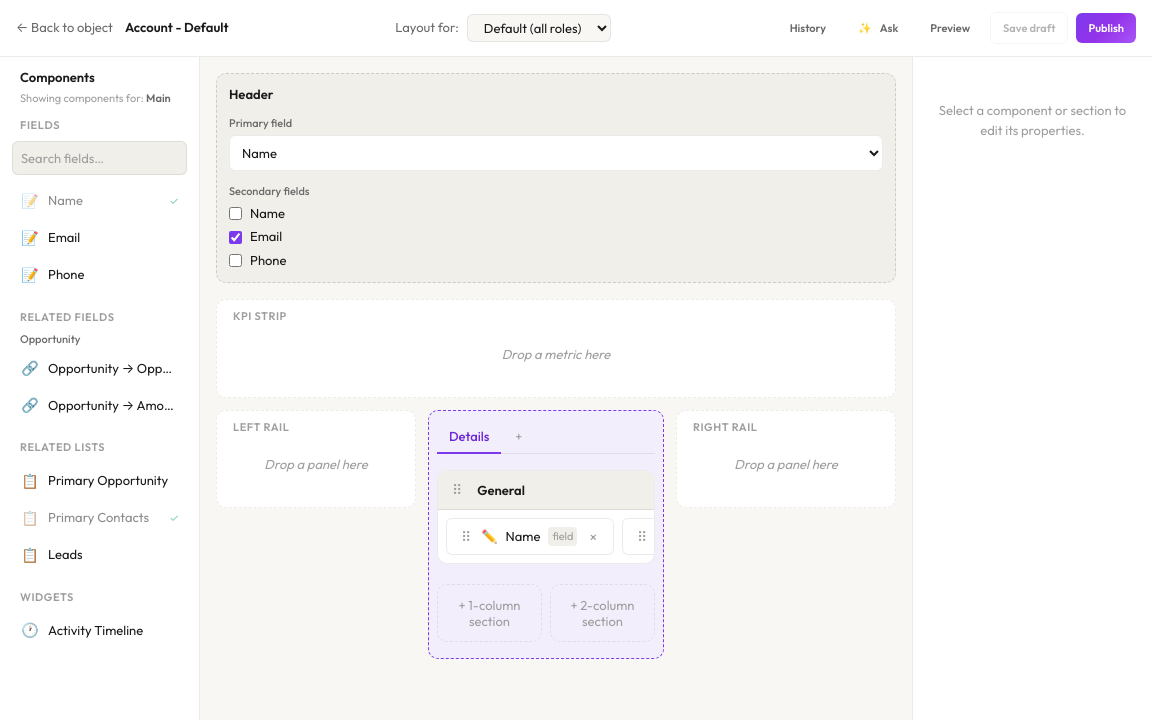
Test case: PageBuilderPage › shows section properties when a section is clicked
The width and height of the screenshot is (1152, 720).
Step 1. Click the element with test id "builder-section-sec-1" → [546, 517], box [437,470,655,564]
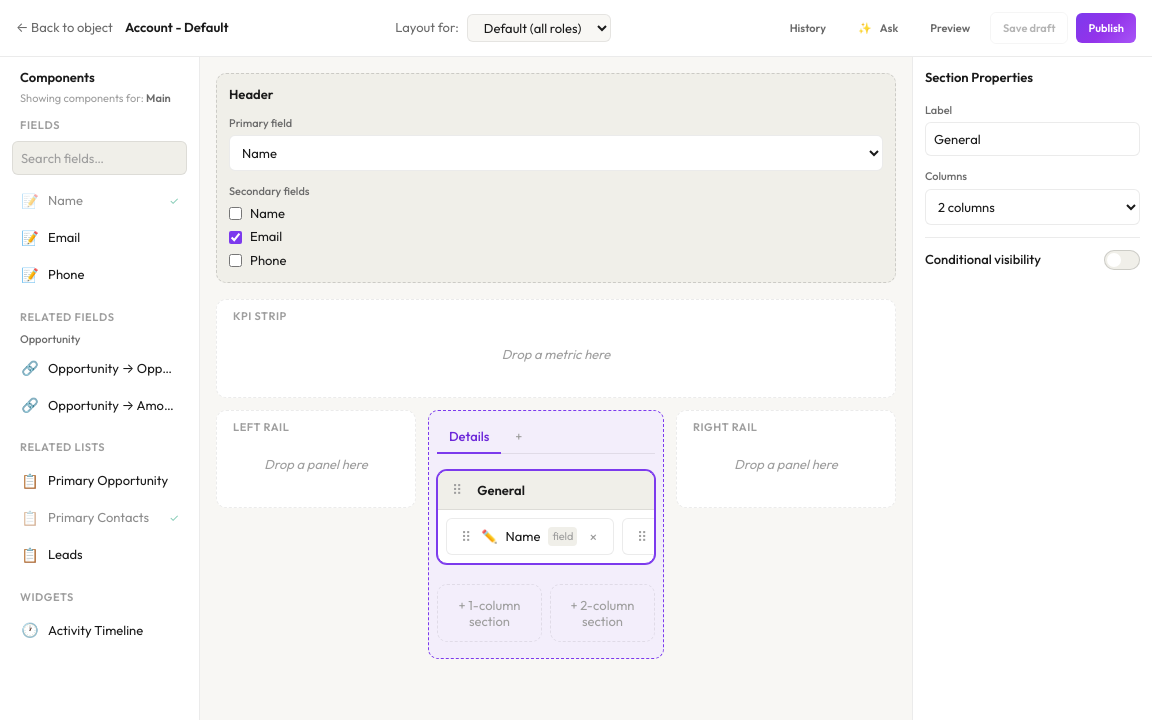
Expected: the heading "Section Properties" is shown, [925,69,1033,85]
